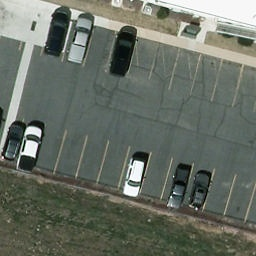car: (116, 158, 148, 199), (45, 13, 69, 59), (2, 120, 26, 162), (190, 172, 207, 210), (0, 108, 3, 159)
pickup: (106, 28, 137, 78), (164, 165, 192, 211), (70, 13, 94, 65), (19, 125, 41, 175)
